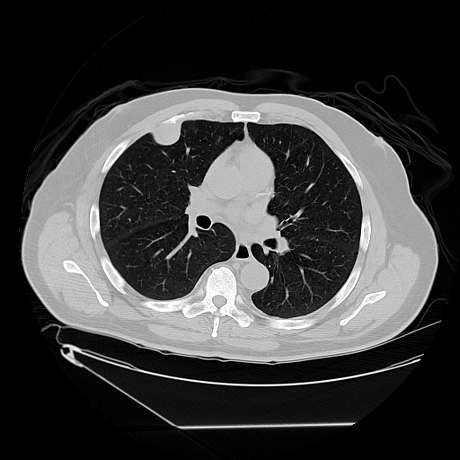nodule: (155, 122, 179, 146)
